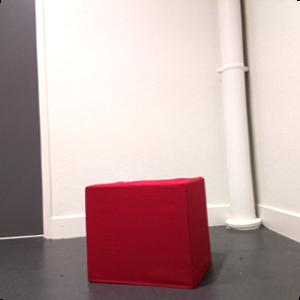medium: (83, 177, 215, 293)
